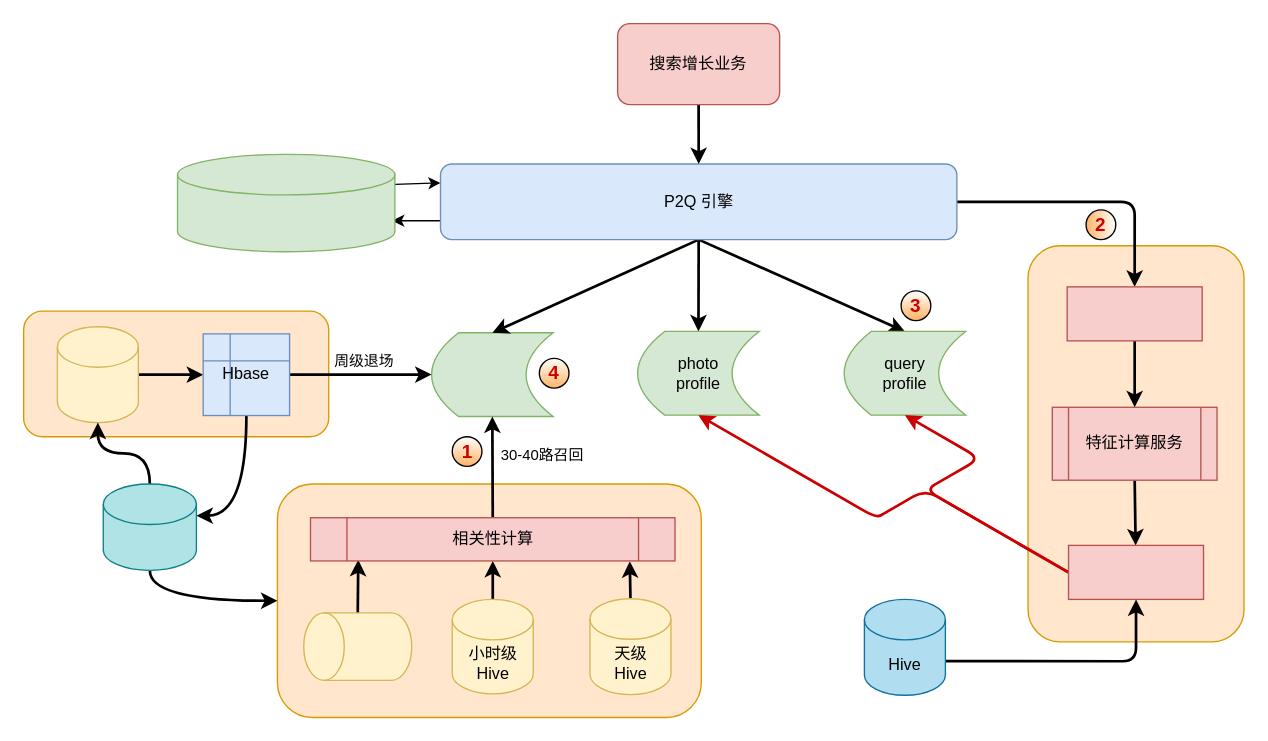
Some shapes in this 1268 by 741 pixel diagram are drawn without their labels. Each missing label, with the centre of its shape:
"Kafka" goes at pixel 1134 313.
"Profile2Redis" goes at pixel 1135 571.
"recall store" goes at pixel 491 373.
"remote cache" goes at pixel 285 202.
"snapshot" goes at pixel 149 526.
"周级 HIve" goes at pixel 97 374.
"实时Kafka" goes at pixel 357 646.
